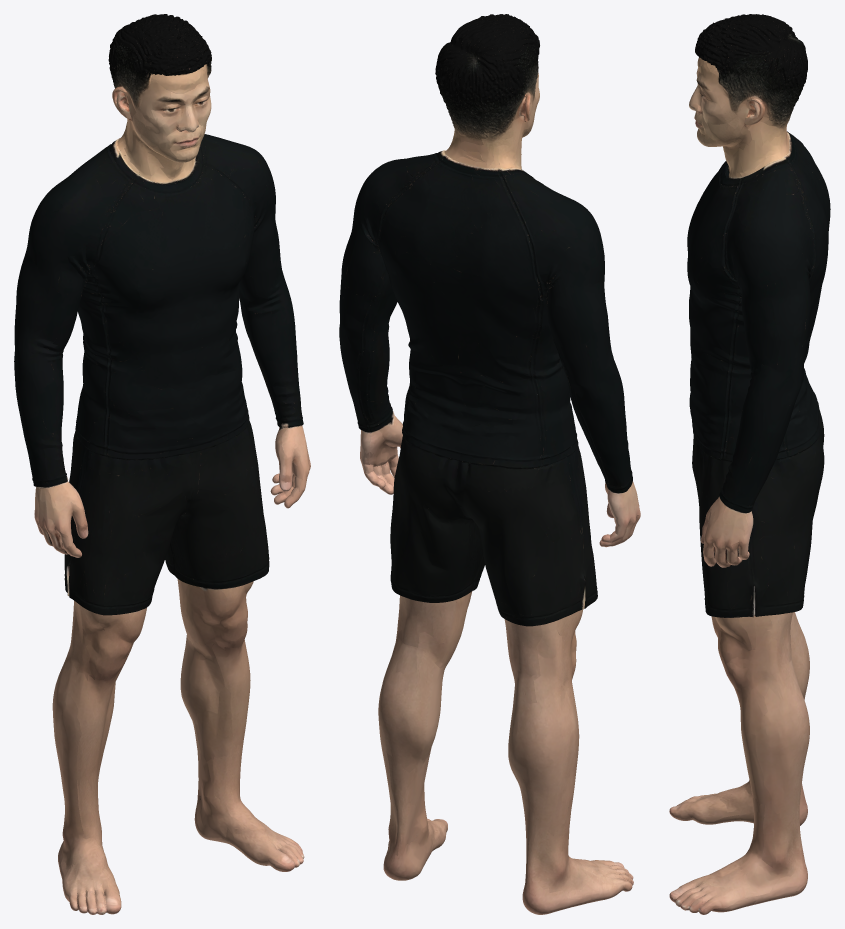
File: demo-nogi-men.glb
The picture shows the model from 3 angles, left to right: view 1: azimuth 30°, elevation 25°; view 2: azimuth 150°, elevation 25°; view 3: azimuth 270°, elevation 25°; orthographic projection. The views are drawn at different scales.
Bounding box in the file's own units: 0.6415 × 1.9 × 0.3294.
1 material, 1 textured.
